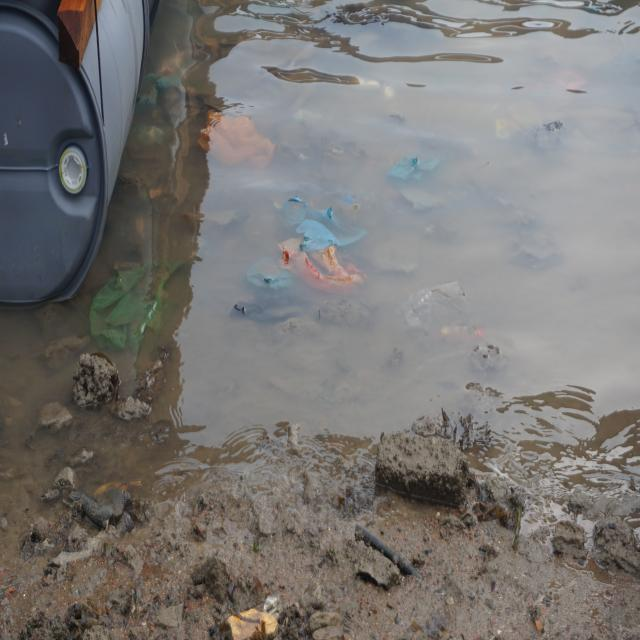Kantong Plastik: (90, 265, 167, 368), (244, 235, 362, 298), (276, 189, 367, 254), (201, 108, 277, 175), (389, 149, 444, 196)
